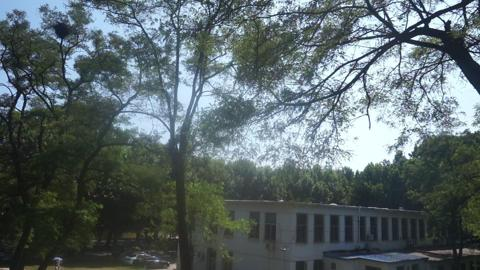UAV: (281, 248, 289, 252)
